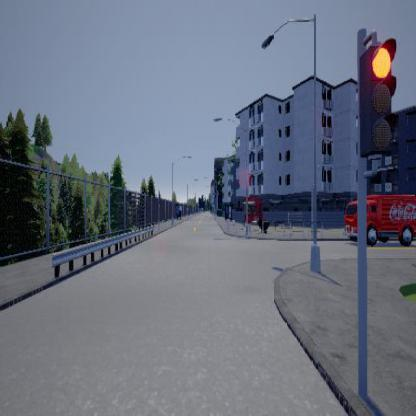traffic_light_red: (359, 29, 396, 178)
vehicle: (342, 194, 416, 245)
